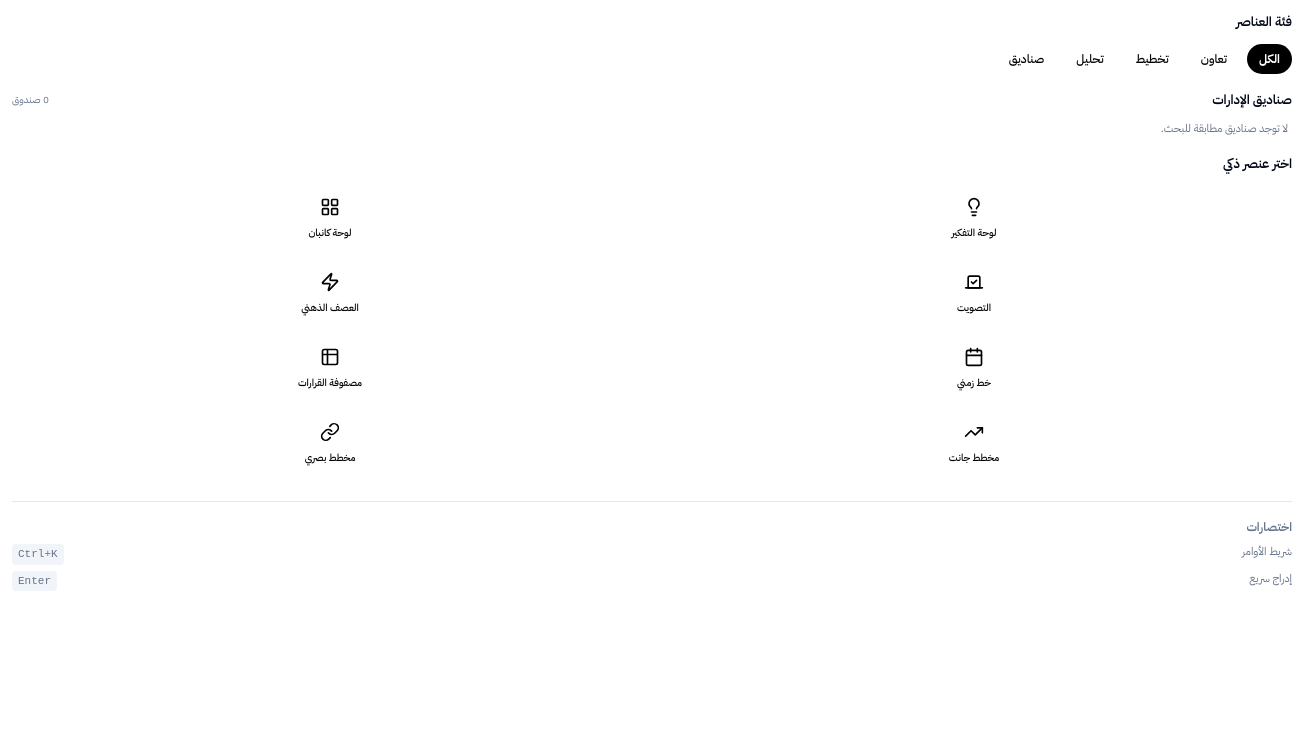
Test: SmartElementsPanel Boxes category › shows project and task cards inside the Boxes tab
What coordinates should you click on to do the following:
click the button "صناديق"
I would click on:
 (1027, 58)
Its box is [997,44,1056,74].
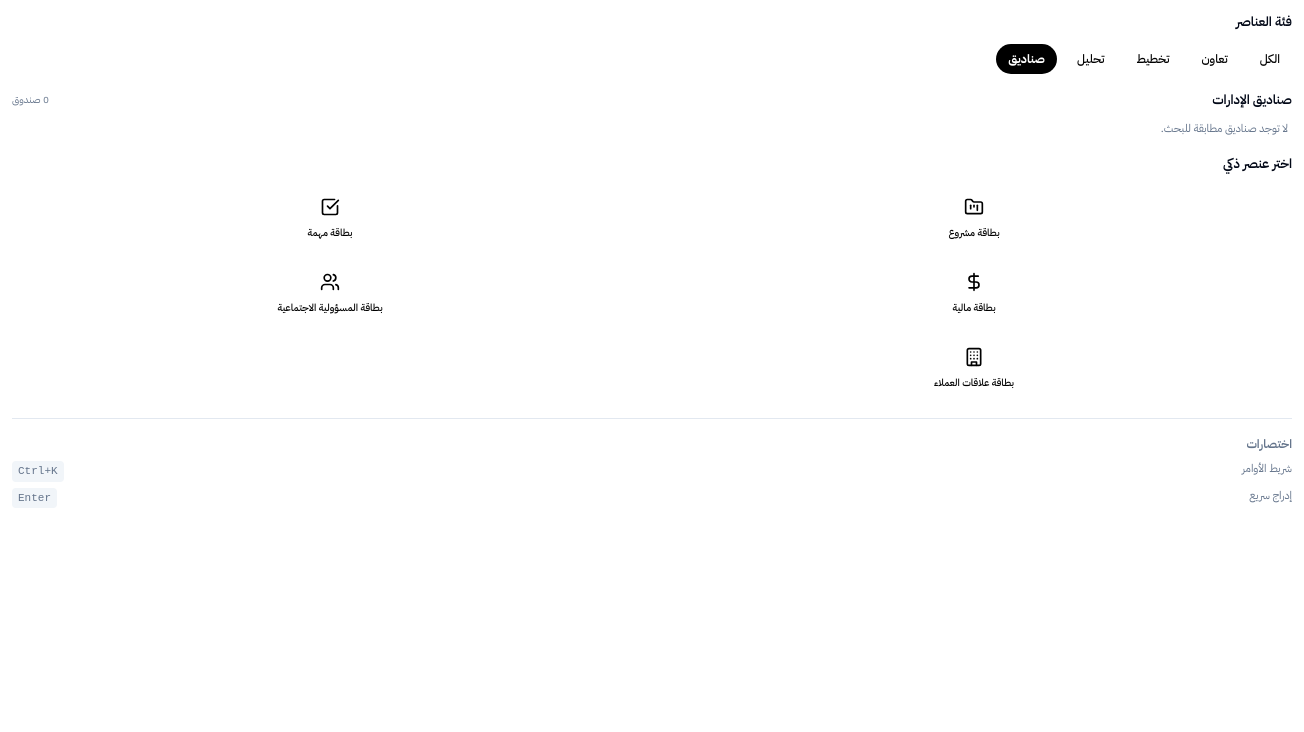
Expected: the button "بطاقة مشروع" is shown, [656,185,1292,252]
Expected: the button "بطاقة مهمة" is shown, [12,185,648,252]
